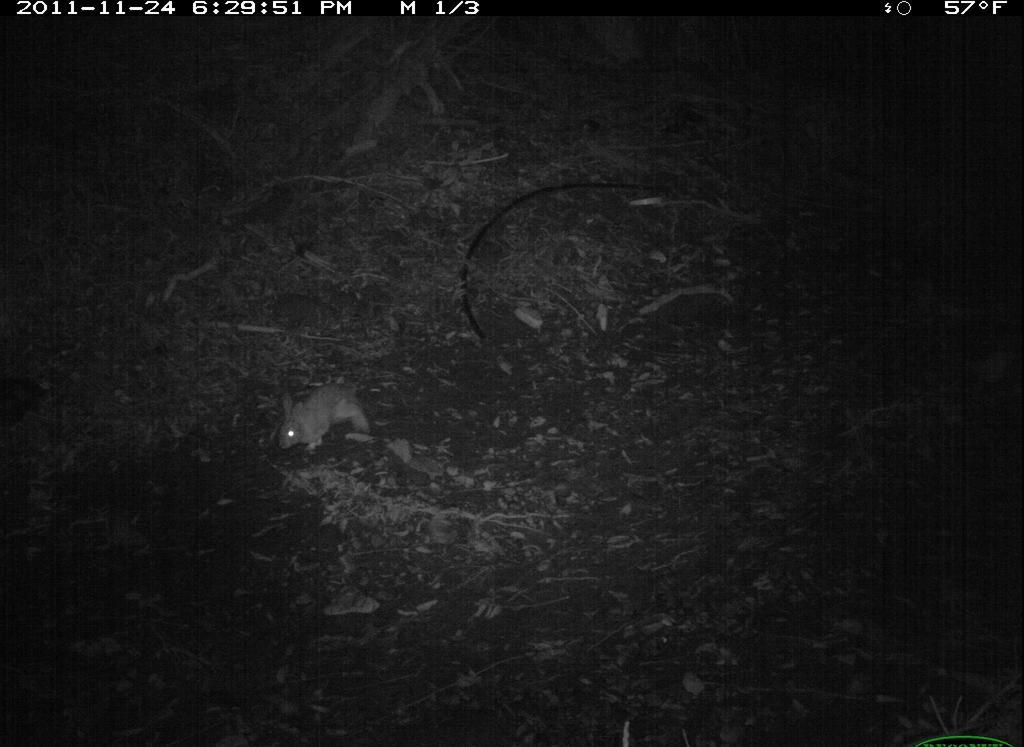rabbit: (268, 373, 377, 466)
